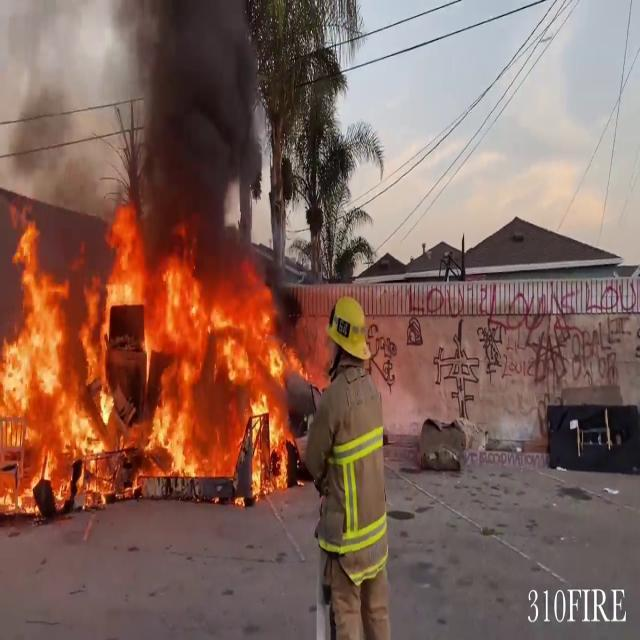Fire: (0, 205, 303, 512)
Smoke: (114, 0, 276, 247)
